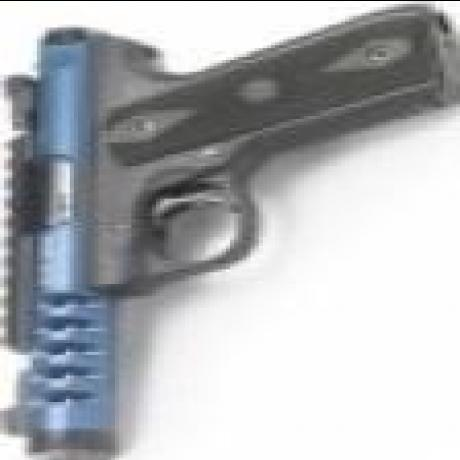weapon: (2, 4, 460, 458)
